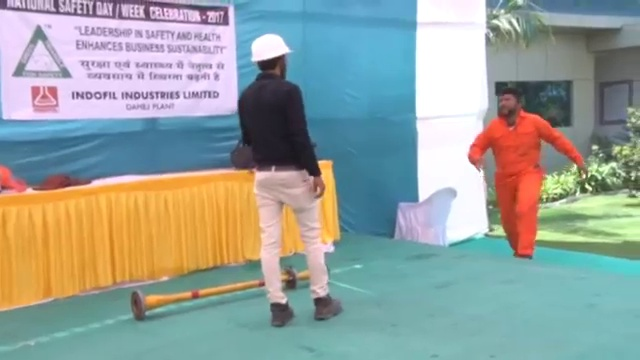helmet: (249, 32, 295, 64)
helmet_off: (494, 86, 524, 119)
helmet_on: (248, 31, 298, 81)
person: (233, 30, 345, 328), (468, 86, 588, 268)
